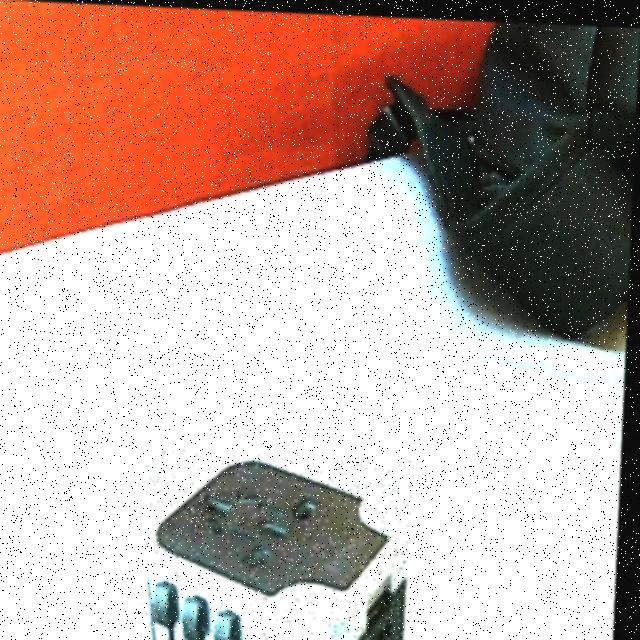adapter: (145, 446, 417, 640)
